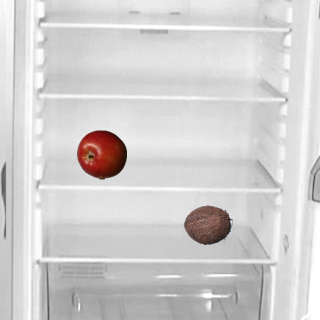Apple Braeburn: (76, 129, 126, 179)
Cocos: (182, 199, 232, 249)
